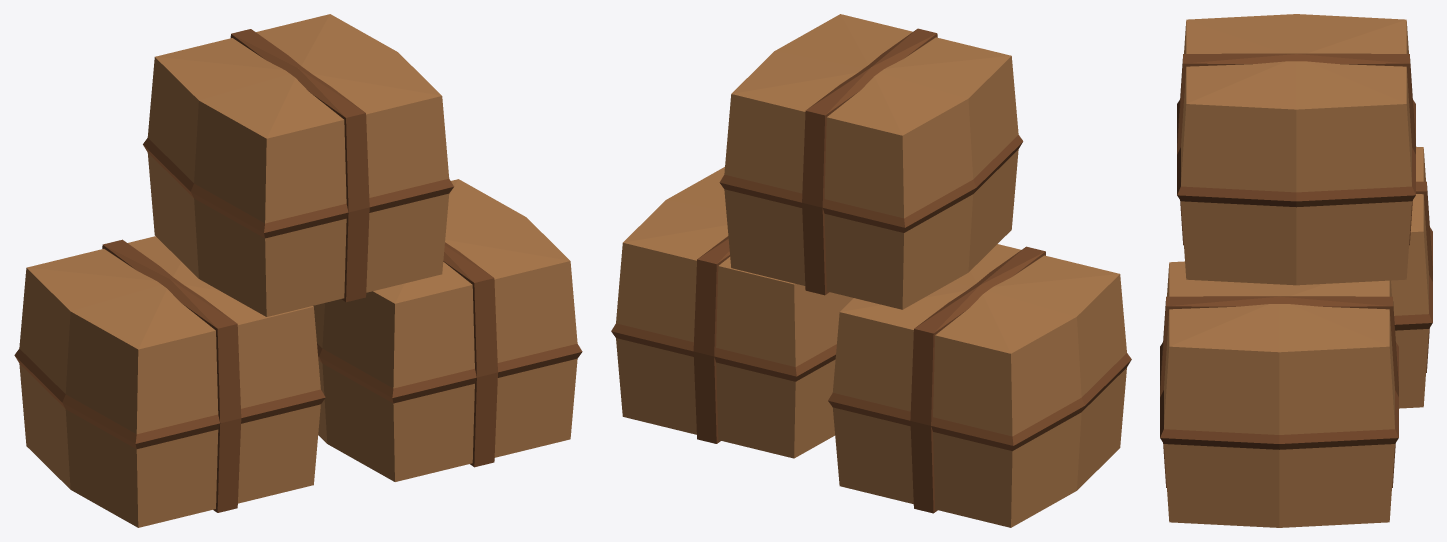
Rendered from r-crates.glb.
3 renders of one model, left to right at view 1: azimuth 30°, elevation 25°; view 2: azimuth 150°, elevation 25°; view 3: azimuth 270°, elevation 25°, orthographic. The views are drawn at different scales.
Visible parts, largest first — view 1: p; view 2: p; view 3: p.
Part boxes in pixels (x1,y1,x2,y2): p: (14,14,582,527); p: (611,14,1131,527); p: (1160,14,1432,527).
Size of the model in its own units: 1.52 by 1.22 by 0.8016.
